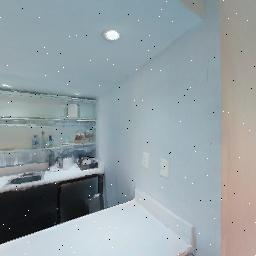sink: (6, 163, 46, 188)
